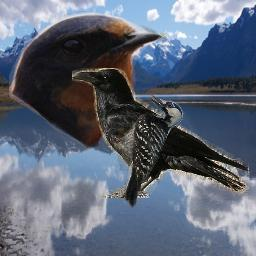Crow: (72, 68, 249, 198)
Swallow: (9, 11, 168, 149)
Woodpecker: (114, 95, 184, 208)
